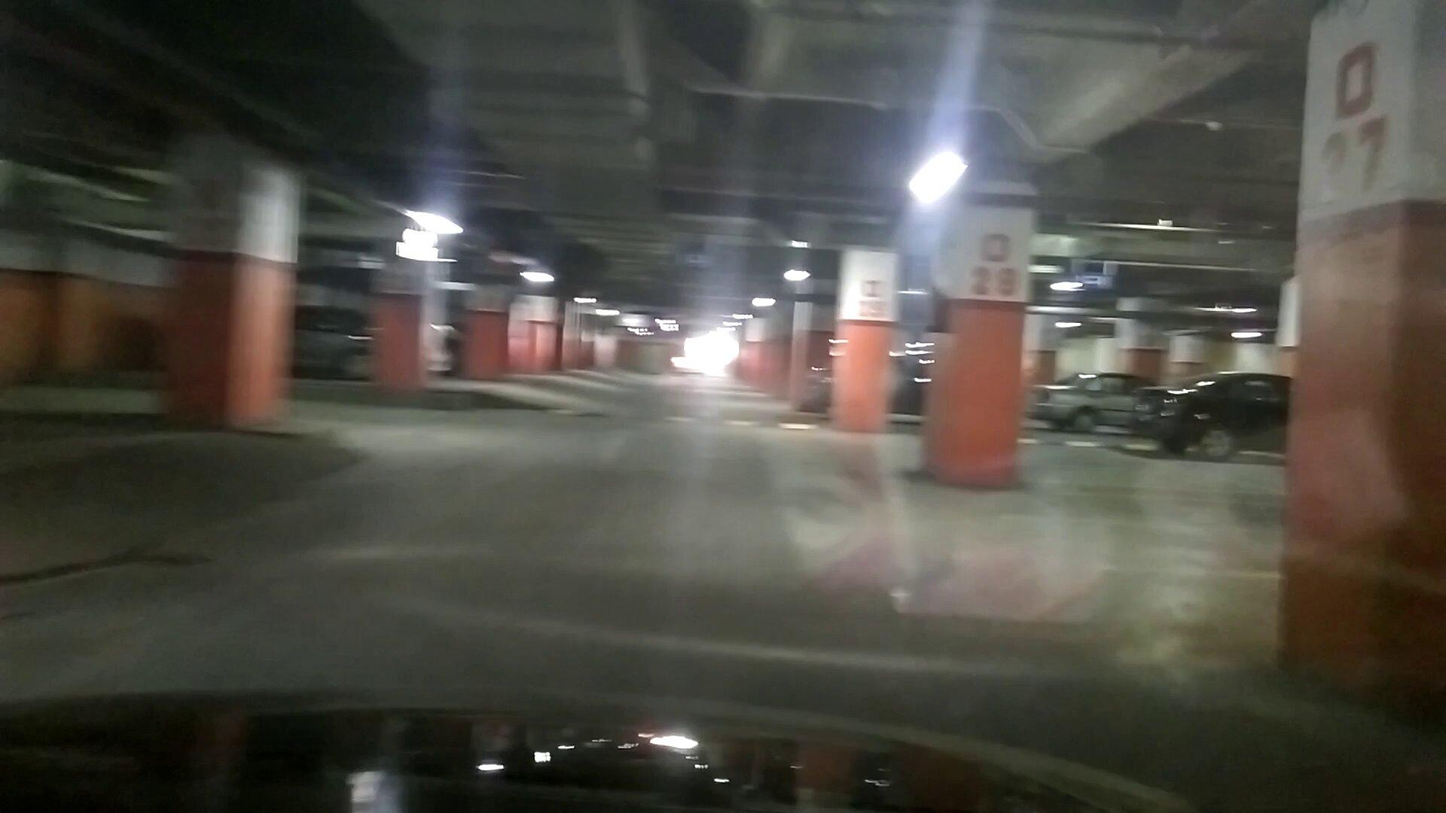Bump: (535, 399, 828, 431)
